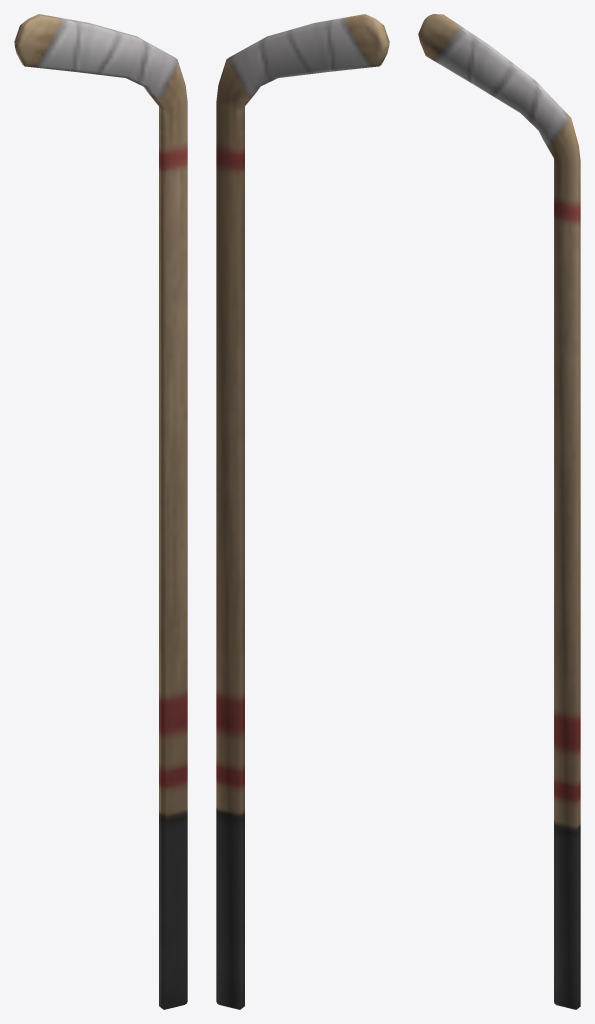
File: IceHockeyStick.fbx
The picture shows the model from 3 angles, left to right: view 1: azimuth 30°, elevation 25°; view 2: azimuth 150°, elevation 25°; view 3: azimuth 330°, elevation 25°; orthographic projection. The views are drawn at different scales.
Visible parts, largest first — view 1: IceHockeyStick; view 2: IceHockeyStick; view 3: IceHockeyStick.
Part boxes in pixels (x1,y1,x2,y2): IceHockeyStick: (14,14,187,1009); IceHockeyStick: (216,14,389,1009); IceHockeyStick: (418,14,580,1009).
Bounding box in the file's own units: 0.1298 × 0.7457 × 0.008.
